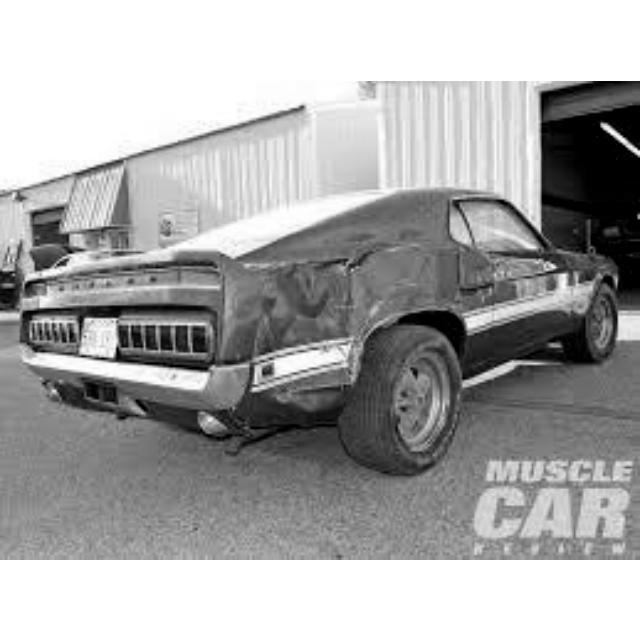quaterpanel-dent: (245, 256, 371, 404)
